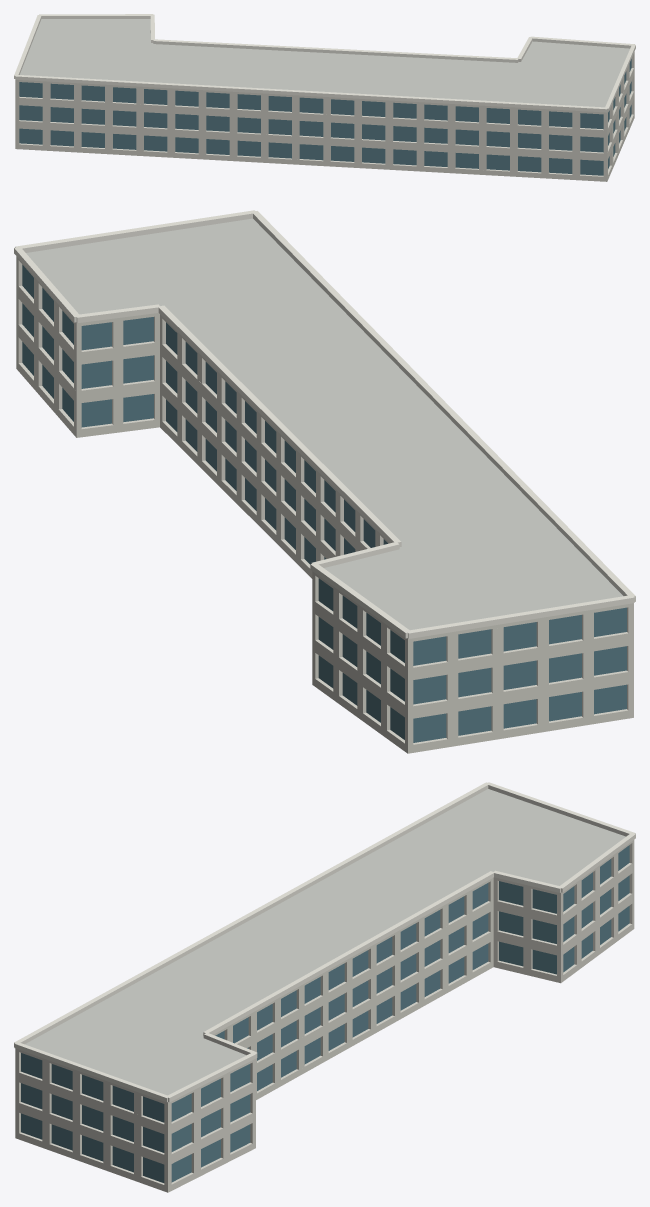
The model's file is sb_1556523913.far.glb.
The picture shows the model from 3 angles, top to bottom: view 1: azimuth 30°, elevation 25°; view 2: azimuth 150°, elevation 25°; view 3: azimuth 270°, elevation 25°; orthographic projection. The views are drawn at different scales.
Parts seen in each view (by area): view 1: roof, wall, glass, trim; view 2: roof, wall, glass, trim; view 3: roof, wall, glass, trim.
Part boxes in pixels (x1,y1,x2,y2): roof: (20,19,629,107); wall: (15,52,634,181); glass: (19,59,631,175); trim: (14,14,635,112); roof: (26,218,623,630); wall: (16,256,633,753); glass: (22,265,626,742); trim: (14,210,635,638); roof: (25,789,625,1095); wall: (15,840,634,1192); glass: (21,845,629,1182); trim: (14,782,635,1102).
Bounding box in the file's own units: 69.35 × 9.74 × 57.68.
